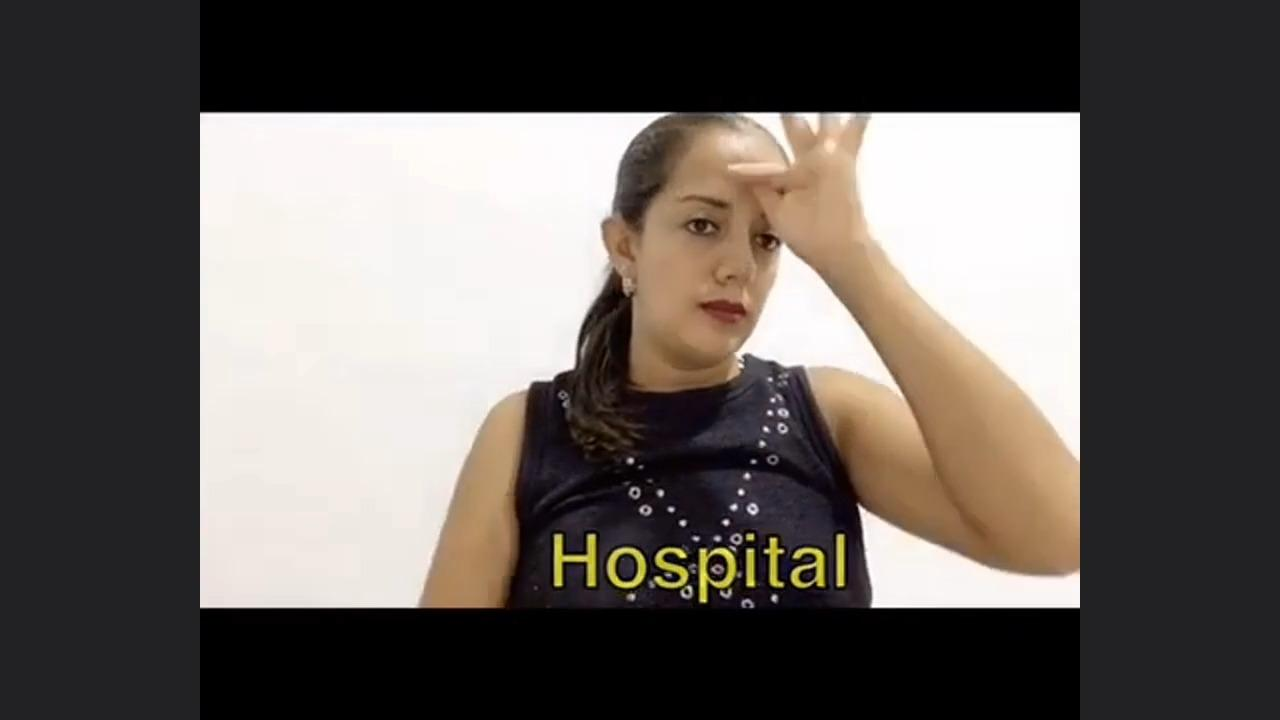Hospital: (404, 118, 1087, 522)
